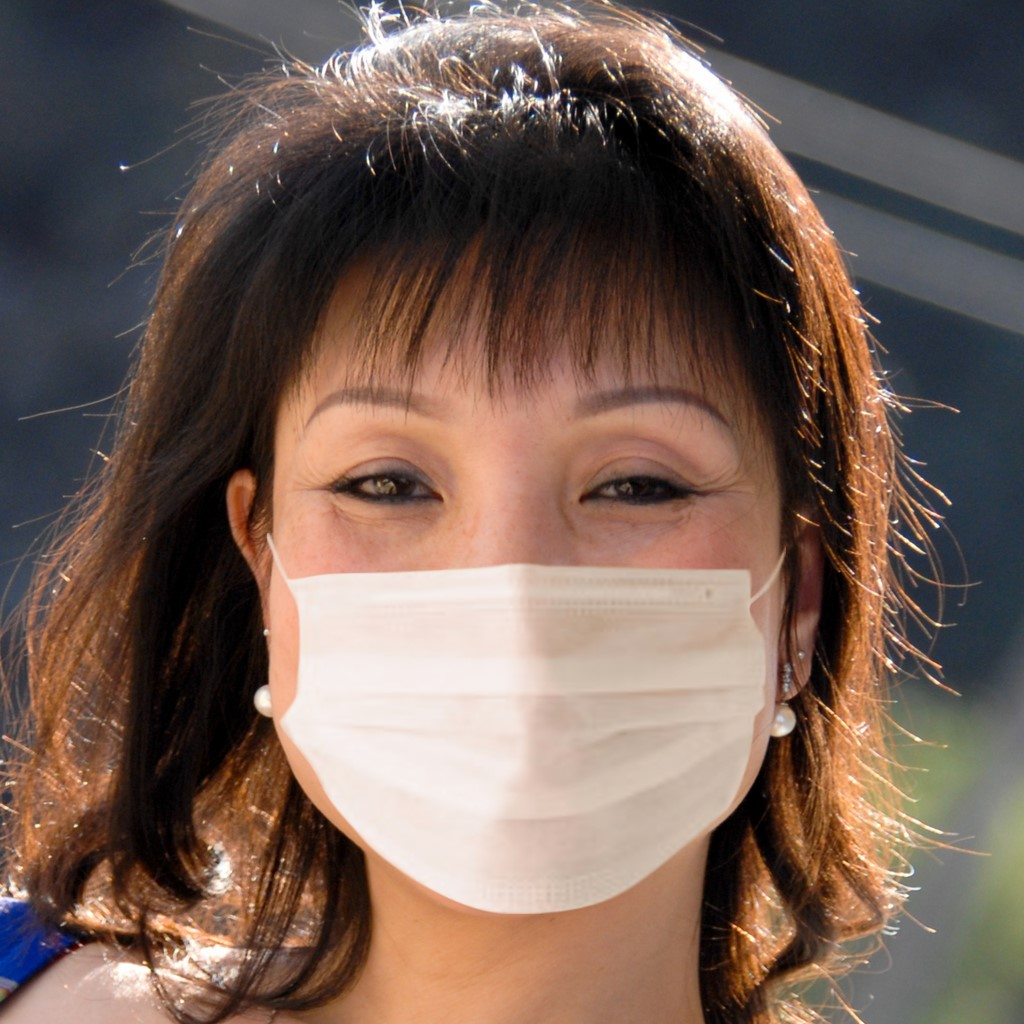con_mascara: (240, 226, 810, 899)
